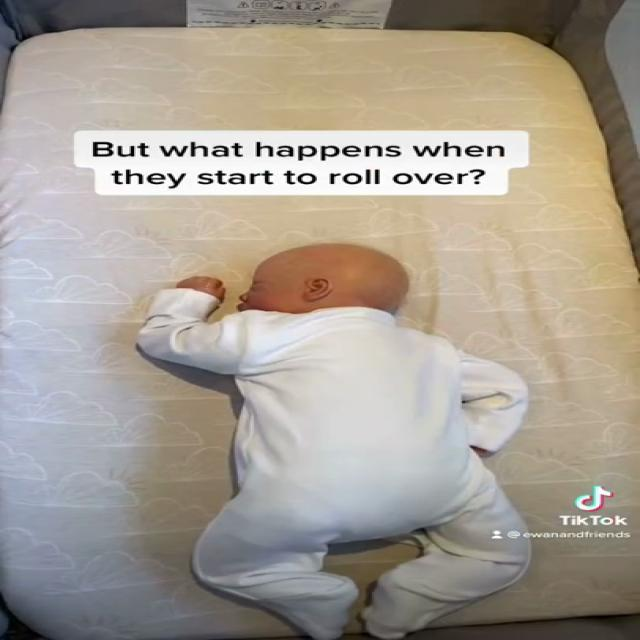baby: (133, 235, 548, 640)
